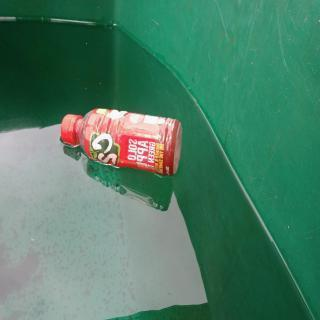bottle: (60, 106, 183, 180)
